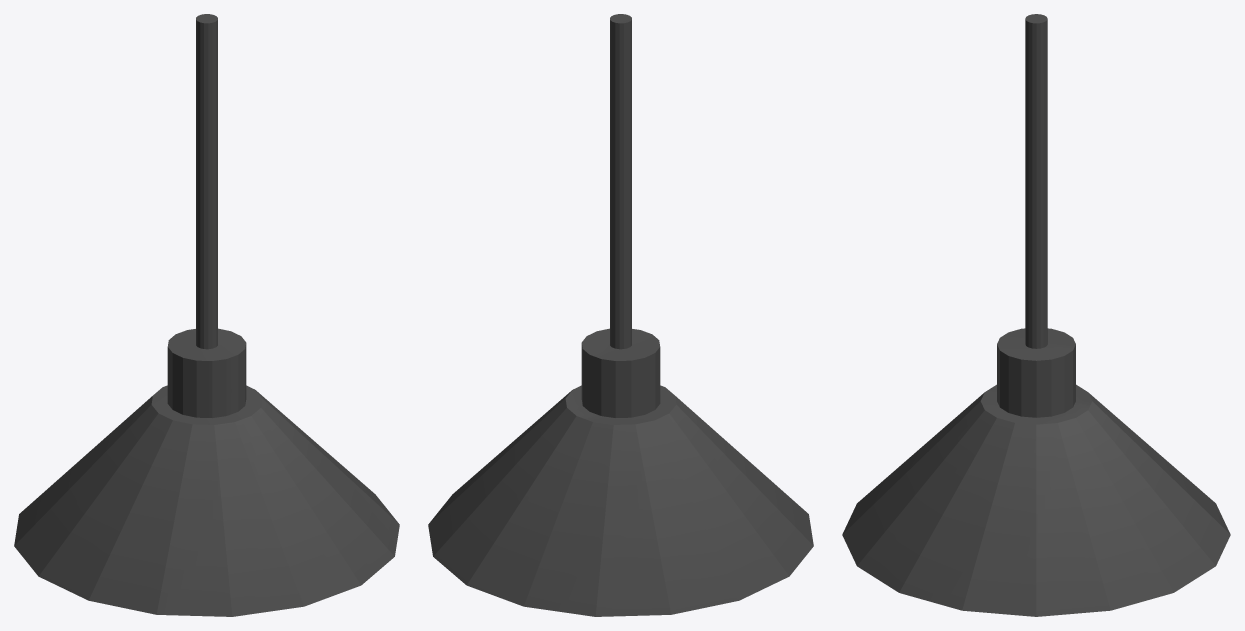
File: HangingLamp.fbx
3 views of the same model, side by side, from view 1: azimuth 30°, elevation 25°; view 2: azimuth 150°, elevation 25°; view 3: azimuth 270°, elevation 25° (orthographic).
Parts seen in each view (by area): view 1: CeilingHangingLamp; view 2: CeilingHangingLamp; view 3: CeilingHangingLamp.
Part boxes in pixels (x1,y1,x2,y2): CeilingHangingLamp: (14,14,399,616); CeilingHangingLamp: (428,14,813,616); CeilingHangingLamp: (842,14,1230,616).
Size of the model in its own units: 200 by 315 by 200.
